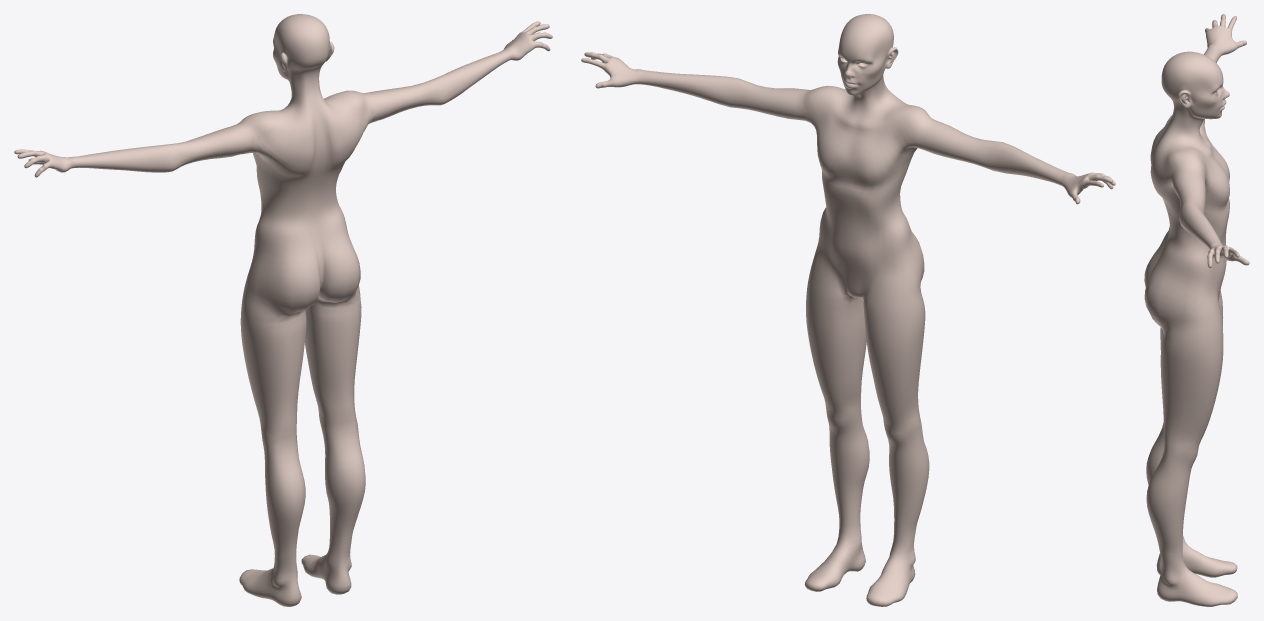
3 renders of one model, left to right at view 1: azimuth 30°, elevation 25°; view 2: azimuth 150°, elevation 25°; view 3: azimuth 270°, elevation 25°, orthographic. The views are drawn at different scales.
Parts seen in each view (by area): view 1: Cube; view 2: Cube; view 3: Cube.
Part boxes in pixels (x1=…): Cube: x1=14, y1=14, x2=552, y2=606; Cube: x1=581, y1=14, x2=1115, y2=606; Cube: x1=1144, y1=14, x2=1249, y2=606.
Bounding box in the file's own units: 1.64 × 1.68 × 0.3014.
